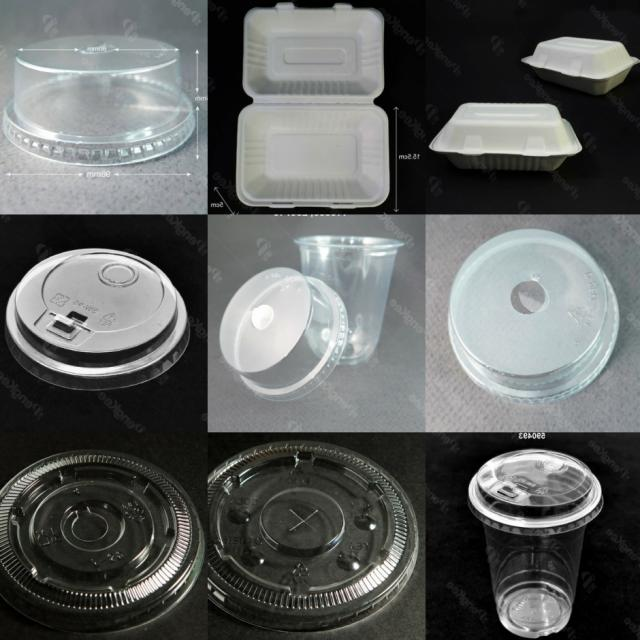plastik: (207, 441, 416, 630), (0, 450, 203, 632), (236, 3, 388, 208), (448, 229, 619, 403), (5, 248, 189, 390), (469, 450, 603, 639), (3, 35, 195, 165), (220, 267, 347, 401), (295, 235, 405, 365), (429, 104, 582, 171), (522, 36, 640, 95)
